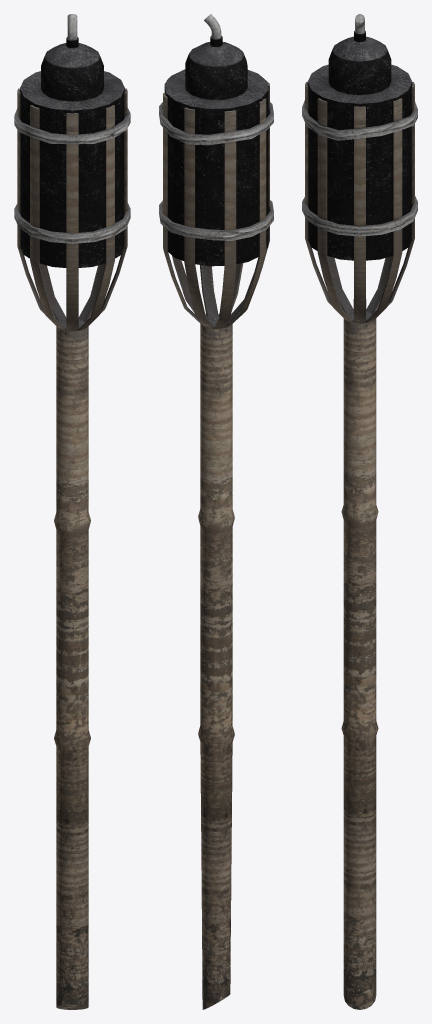
The model's file is torch.fbx.
3 renders of one model, left to right at view 1: azimuth 90°, elevation 25°; view 2: azimuth 150°, elevation 25°; view 3: azimuth 270°, elevation 25°, orthographic.
Visible parts, largest first — view 1: polySurface3; view 2: polySurface3; view 3: polySurface3.
Part boxes in pixels (<box>): polySurface3: <box>14,14,130,1009</box>; polySurface3: <box>159,14,273,1009</box>; polySurface3: <box>302,14,417,1009</box>.
Bounding box in the file's own units: 1.49 × 14.07 × 1.49.
